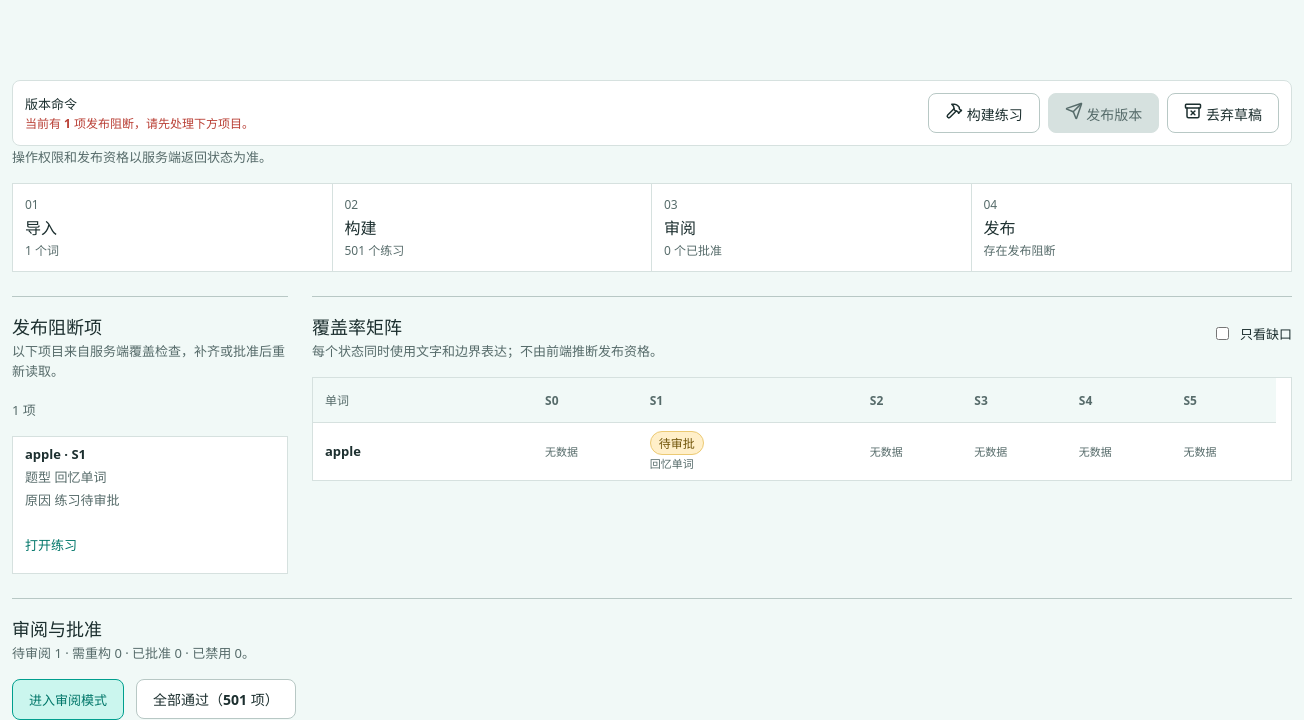
Test: SourceVersionDetailPage › re-reads authoritative state when a later approval batch fails after partial success
The image size is (1304, 720).
(page scrolled)
Step 1. Click the button "全部通过（501 项）" → (216, 699), box [136,679,296,719]
(page scrolled)
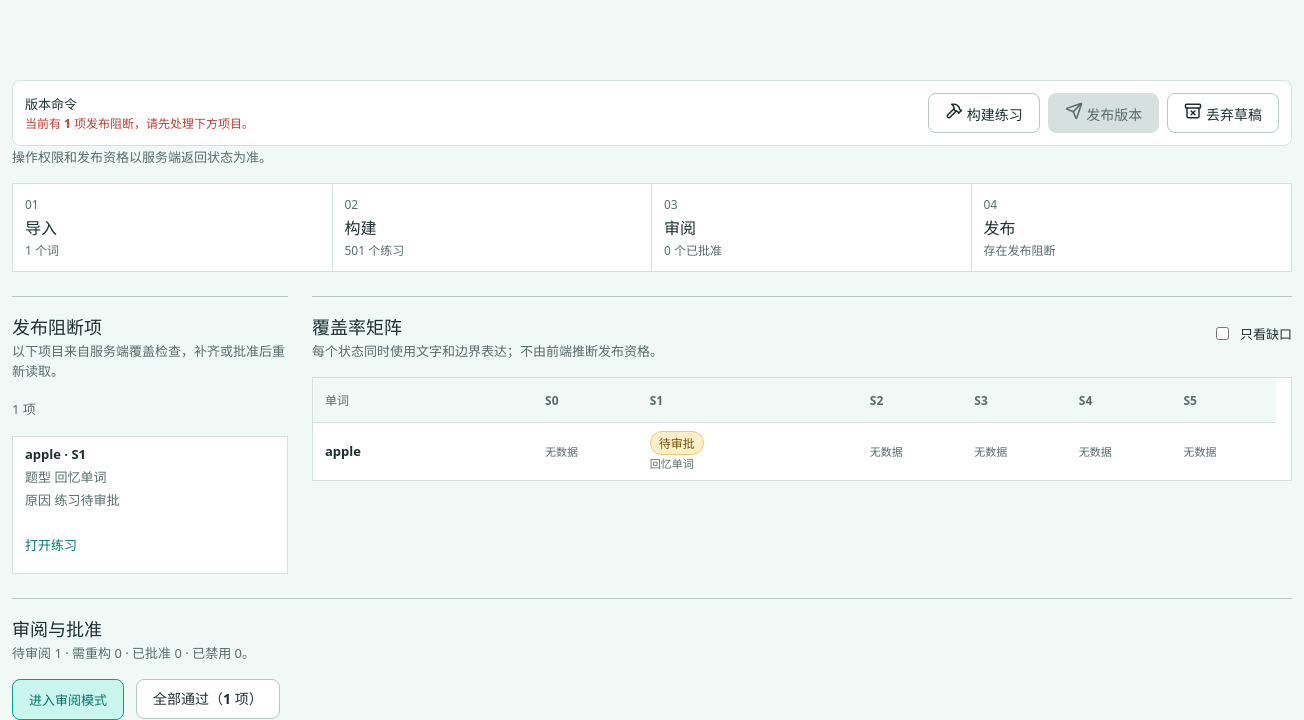
Check: the button "全部通过（1 项）" is shown, box [136,679,280,719]
